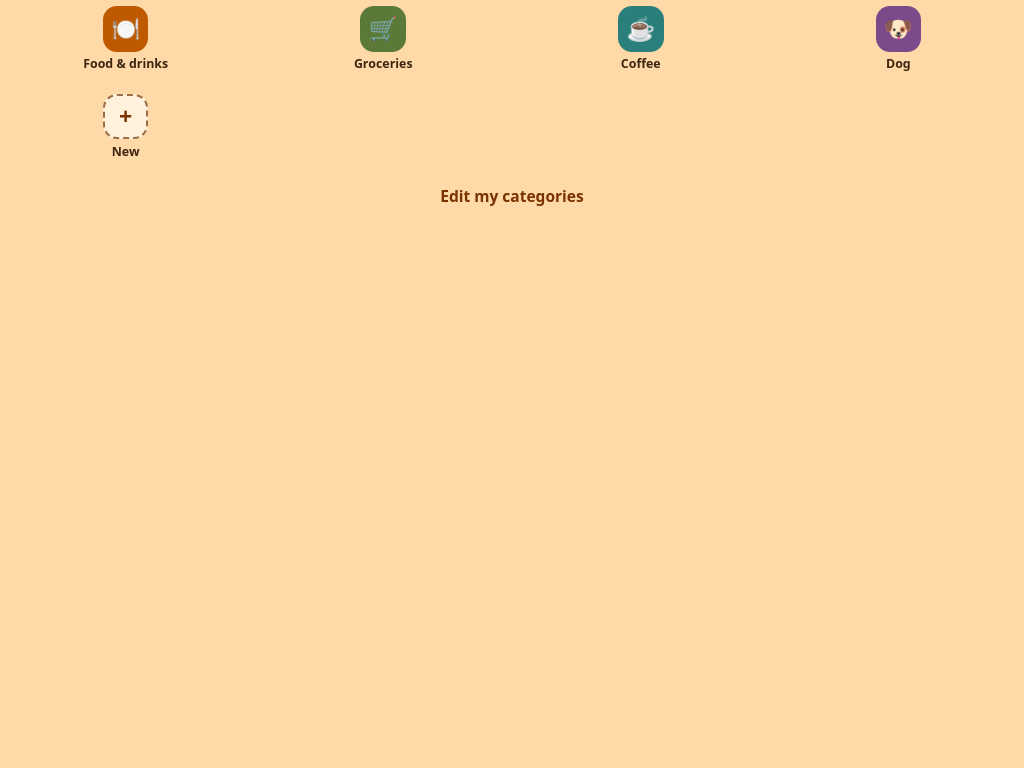
Scenario: PersonalCategoryGrid › the tiles › opens "My categories" from the "Edit my categories" link
This screenshot has width=1024, height=768.
Click the button "Edit my categories" at (512, 196), box [427, 174, 597, 219]
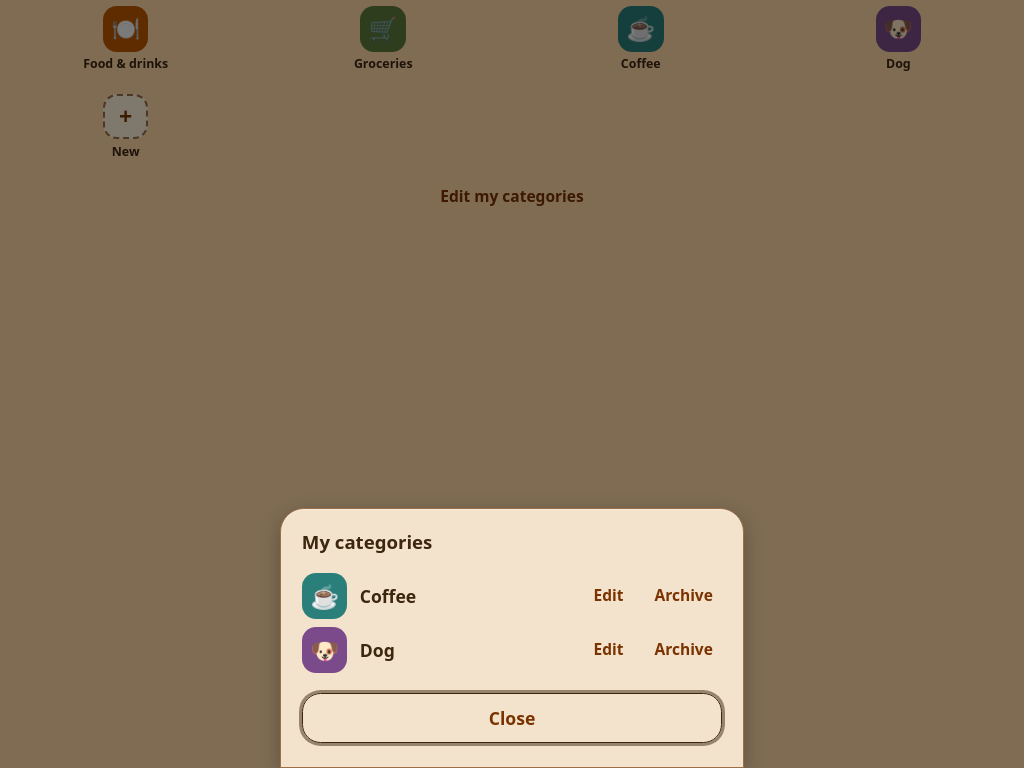
expect the dialog "My categories" is shown: met, box [280, 508, 744, 767]
